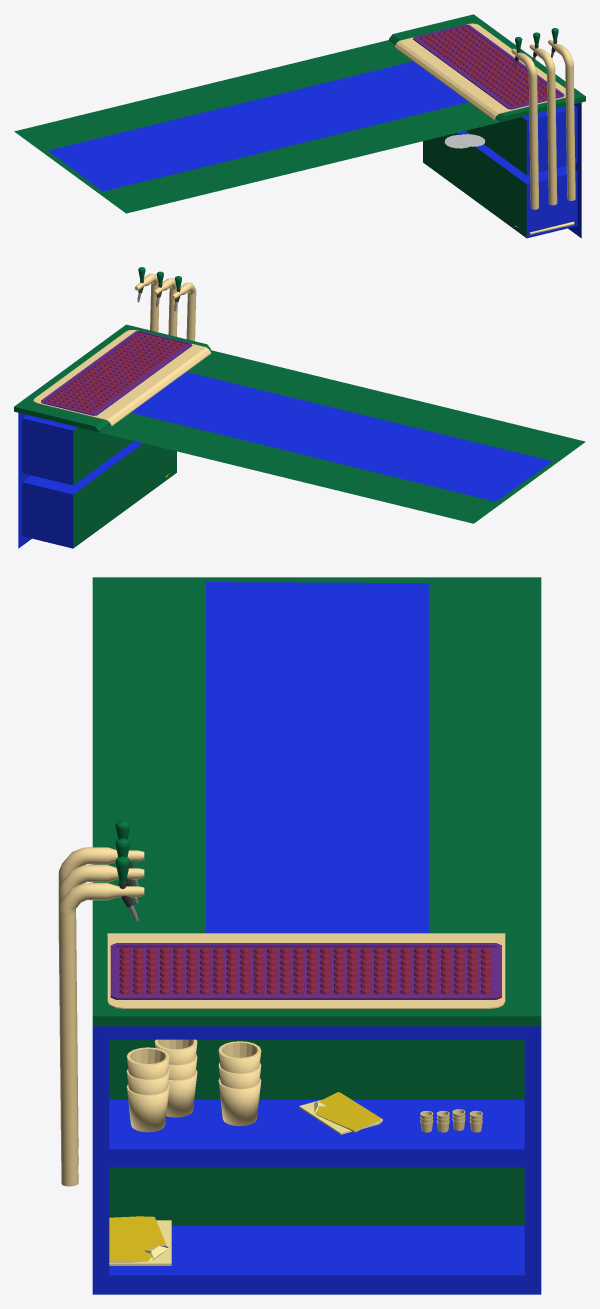
Rendered from Table_jable.FBX.
3 renders of one model, top to bottom at view 1: azimuth 30°, elevation 25°; view 2: azimuth 150°, elevation 25°; view 3: azimuth 270°, elevation 25°, orthographic. The views are drawn at different scales.
Visible parts, largest first — view 1: stol, bigpodstavka, skatert, kran.000, kran.002, kran.001, Podstavkapodkrygky.002; view 2: stol, bigpodstavka, skatert, kran.001, kran.002, kran.000; view 3: stol, bigpodstavka, skatert, kran.002, Cylinder.002, stakan, Plane.001, Cylinder.001, tryapka, kran.000, kran.001.
Boxes of the visible parts, bbox=[...] form: stol: bbox=[14, 14, 585, 238]; bigpodstavka: bbox=[413, 24, 564, 109]; skatert: bbox=[394, 23, 565, 120]; kran.000: bbox=[529, 32, 557, 205]; kran.002: bbox=[548, 28, 575, 200]; kran.001: bbox=[511, 37, 538, 209]; Podstavkapodkrygky.002: bbox=[455, 134, 485, 146]; stol: bbox=[14, 324, 585, 548]; bigpodstavka: bbox=[41, 330, 192, 415]; skatert: bbox=[33, 330, 211, 426]; kran.001: bbox=[171, 276, 196, 341]; kran.002: bbox=[134, 267, 159, 332]; kran.000: bbox=[153, 271, 177, 336]; stol: bbox=[92, 577, 541, 1294]; bigpodstavka: bbox=[110, 943, 501, 999]; skatert: bbox=[107, 933, 505, 1008]; kran.002: bbox=[58, 856, 144, 1186]; Cylinder.002: bbox=[218, 1041, 261, 1126]; stakan: bbox=[126, 1047, 169, 1132]; Plane.001: bbox=[109, 1216, 171, 1265]; Cylinder.001: bbox=[154, 1039, 197, 1117]; tryapka: bbox=[299, 1092, 382, 1134]; kran.000: bbox=[58, 838, 144, 1164]; kran.001: bbox=[58, 820, 144, 1147].
Size of the model in its own units: 7065 by 3074 by 3214.
